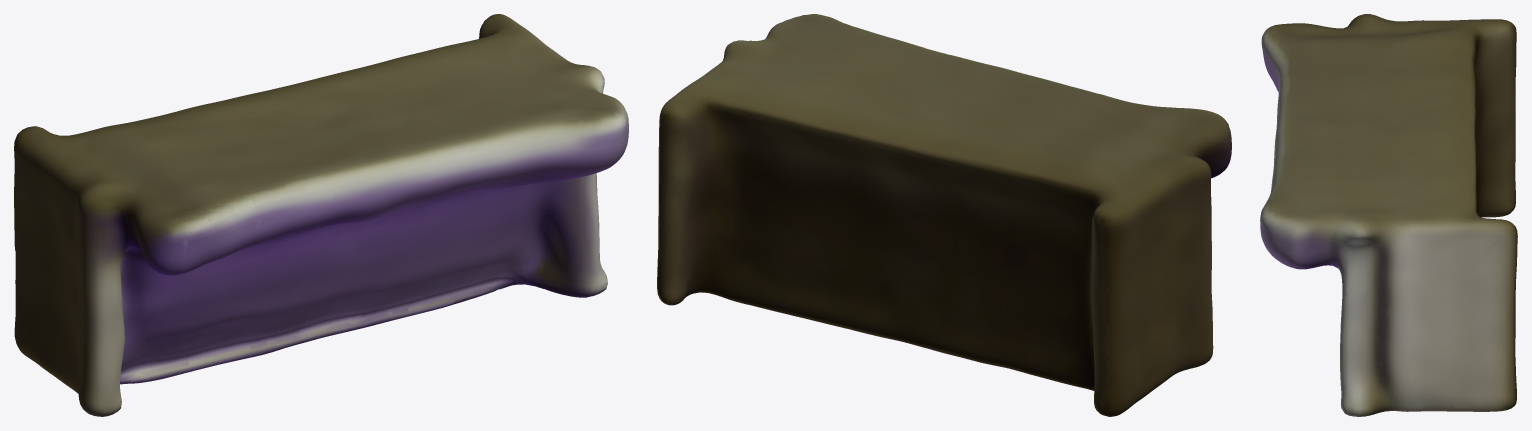
Rendered from sofa.glb.
The picture shows the model from 3 angles, left to right: view 1: azimuth 30°, elevation 25°; view 2: azimuth 150°, elevation 25°; view 3: azimuth 270°, elevation 25°; orthographic projection. The views are drawn at different scales.
Size of the model in its own units: 0.9979 by 0.4388 by 0.4881.
